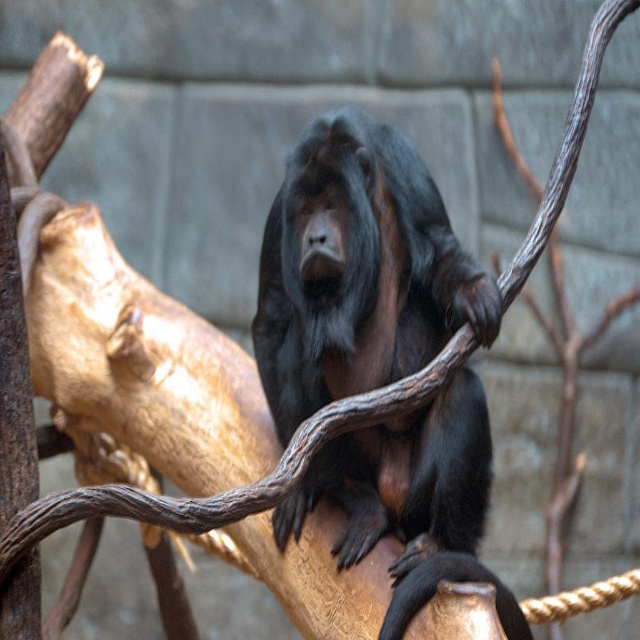Monkey: (251, 104, 503, 597)
